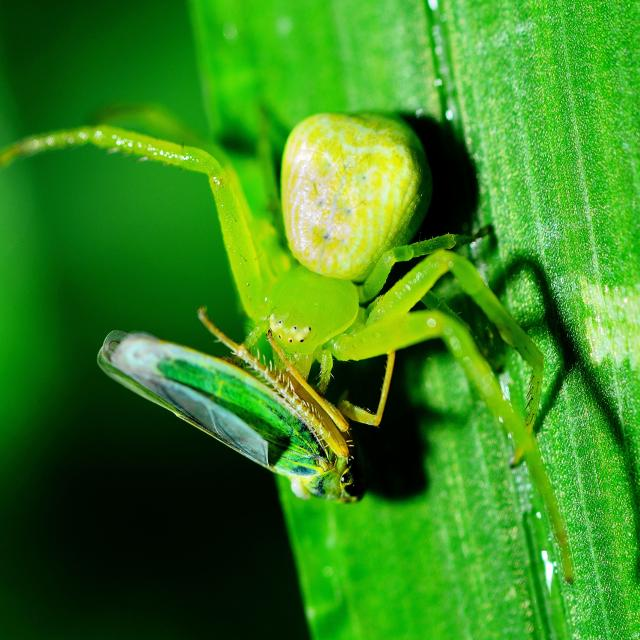Yechan: (97, 318, 369, 515)
